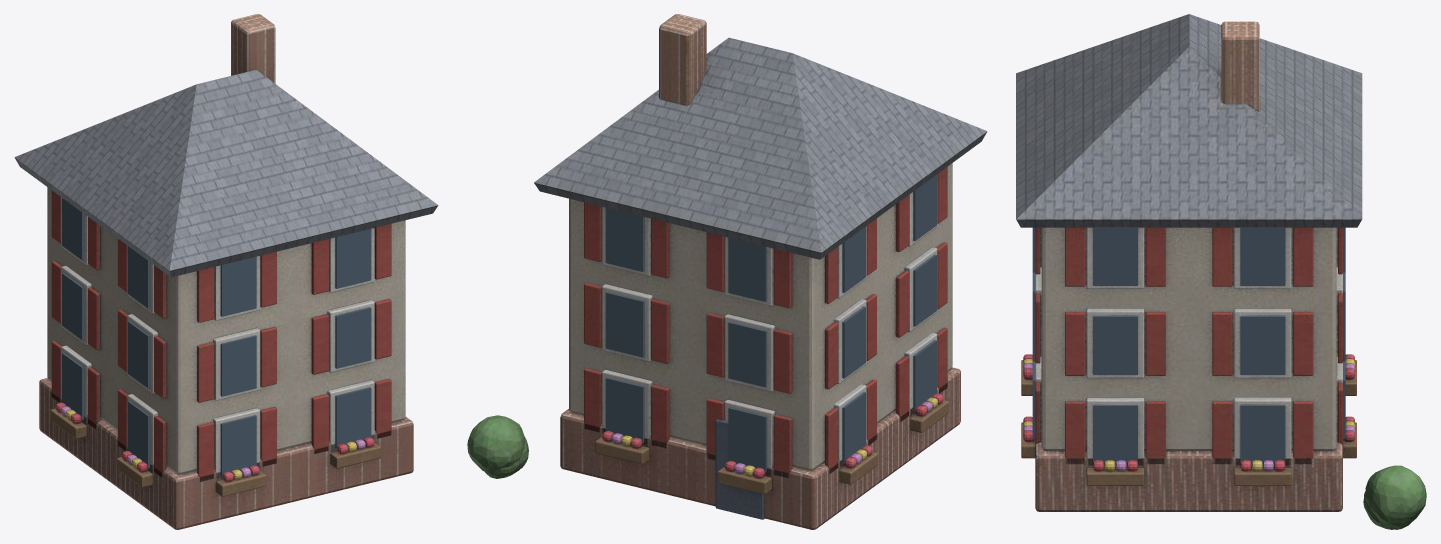
Rendered from haus_b.glb.
The picture shows the model from 3 angles, left to right: view 1: azimuth 30°, elevation 25°; view 2: azimuth 150°, elevation 25°; view 3: azimuth 270°, elevation 25°; orthographic projection. The views are drawn at different scales.
Parts seen in each view (by area): view 1: haus_b, haus_b_details; view 2: haus_b, haus_b_details; view 3: haus_b, haus_b_details.
Boxes of the visible parts, x1,y1,x2,y2 form: haus_b: (14,14,438,529); haus_b_details: (62,198,371,476); haus_b: (467,14,987,529); haus_b_details: (605,174,936,472); haus_b: (1016,14,1426,529); haus_b_details: (1032,227,1345,462).
Size of the model in its own units: 0.6236 by 0.77 by 0.6408.
2 materials, 1 textured.
